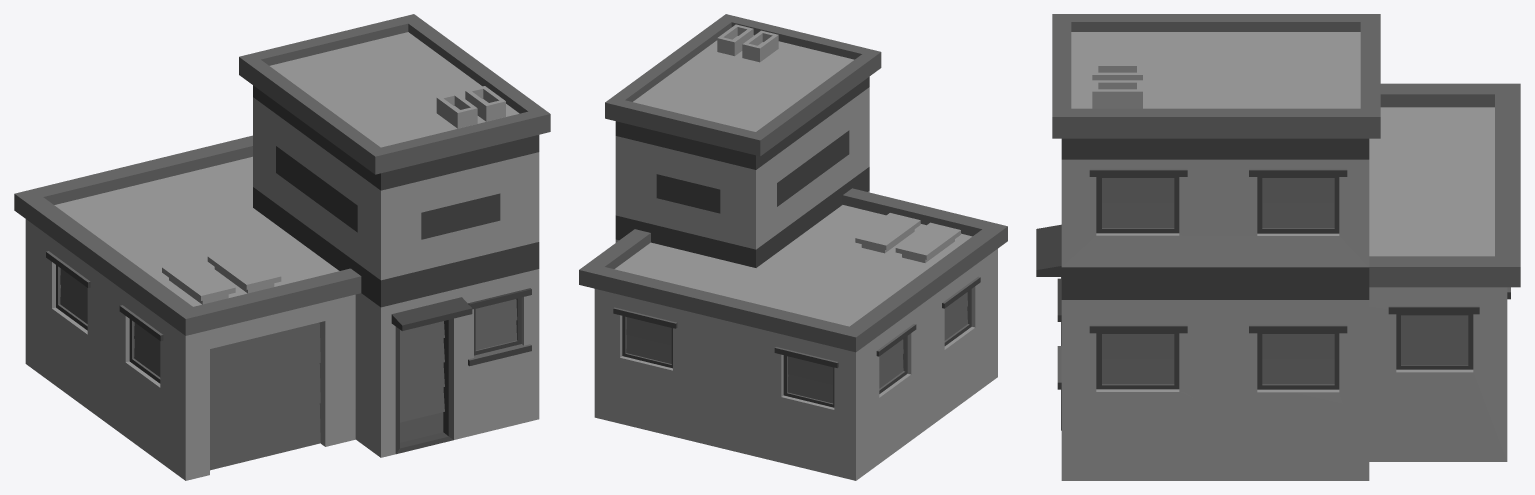
File: house_purpose_005.fbx
The picture shows the model from 3 angles, left to right: view 1: azimuth 30°, elevation 25°; view 2: azimuth 150°, elevation 25°; view 3: azimuth 270°, elevation 25°; orthographic projection. The views are drawn at different scales.
Parts seen in each view (by area): view 1: house_purpose_005; view 2: house_purpose_005; view 3: house_purpose_005.
Part boxes in pixels (x1,y1,x2,y2): house_purpose_005: [14, 14, 550, 480]; house_purpose_005: [579, 14, 1007, 480]; house_purpose_005: [1036, 14, 1520, 480].
Size of the model in its own units: 741 by 652 by 757.
